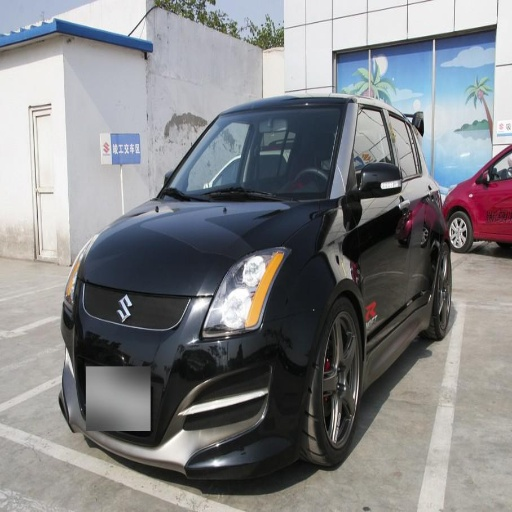front_bumper: (67, 281, 308, 478)
front_glass: (160, 103, 349, 197)
front_left_door: (349, 105, 411, 337), (479, 154, 511, 222)
